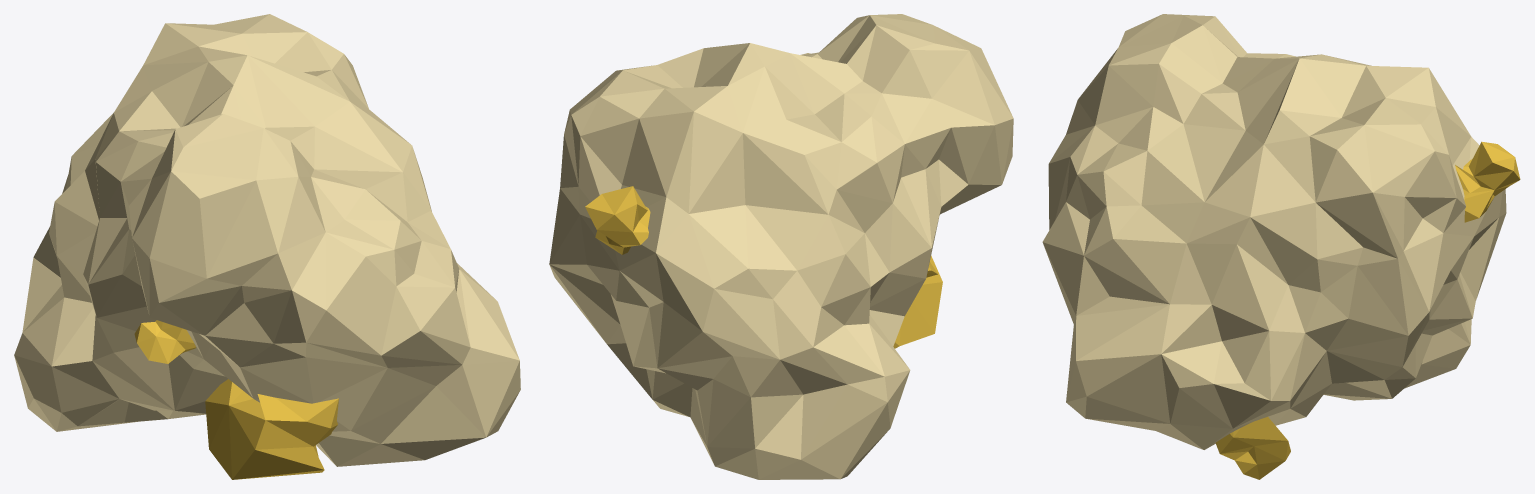
File: MetalOre (7).fbx
3 views of the same model, side by side, from view 1: azimuth 30°, elevation 25°; view 2: azimuth 150°, elevation 25°; view 3: azimuth 270°, elevation 25° (orthographic). The views are drawn at different scales.
Parts seen in each view (by area): view 1: Asteroid362; view 2: Asteroid362; view 3: Asteroid362.
Part boxes in pixels (x1,y1,x2,y2): Asteroid362: (14, 14, 520, 479); Asteroid362: (549, 14, 1013, 479); Asteroid362: (1042, 14, 1520, 479).
Size of the model in its own units: 364 by 381 by 449.
